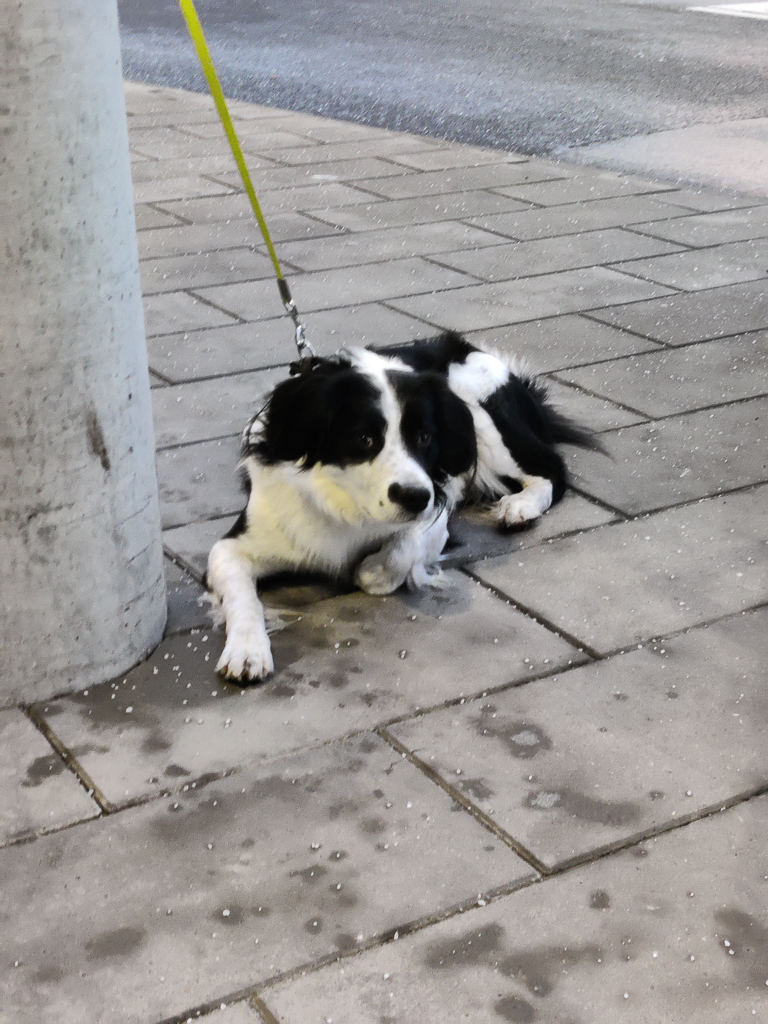Dog: (169, 306, 663, 700)
